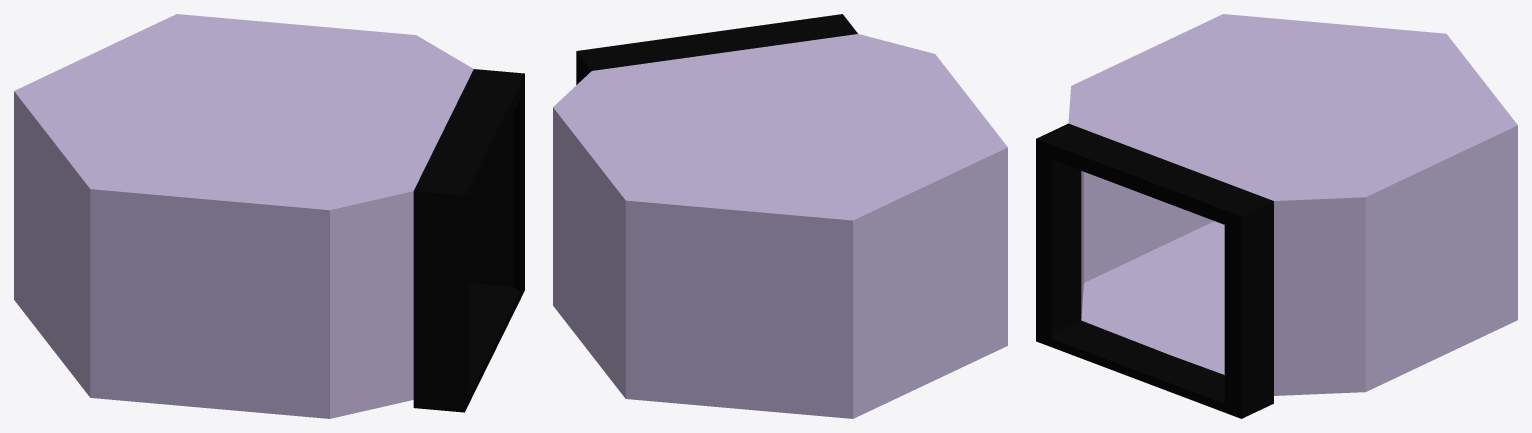
Rendered from Bar.fbx.
3 views of the same model, side by side, from view 1: azimuth 30°, elevation 25°; view 2: azimuth 150°, elevation 25°; view 3: azimuth 270°, elevation 25° (orthographic). The views are drawn at different scales.
Parts seen in each view (by area): view 1: Cube.001; view 2: Cube.001; view 3: Cube.001.
Part boxes in pixels (x1,y1,x2,y2): Cube.001: [14, 14, 524, 418]; Cube.001: [553, 14, 1007, 418]; Cube.001: [1036, 14, 1517, 418].
Size of the model in its own units: 258 by 260 by 121.
